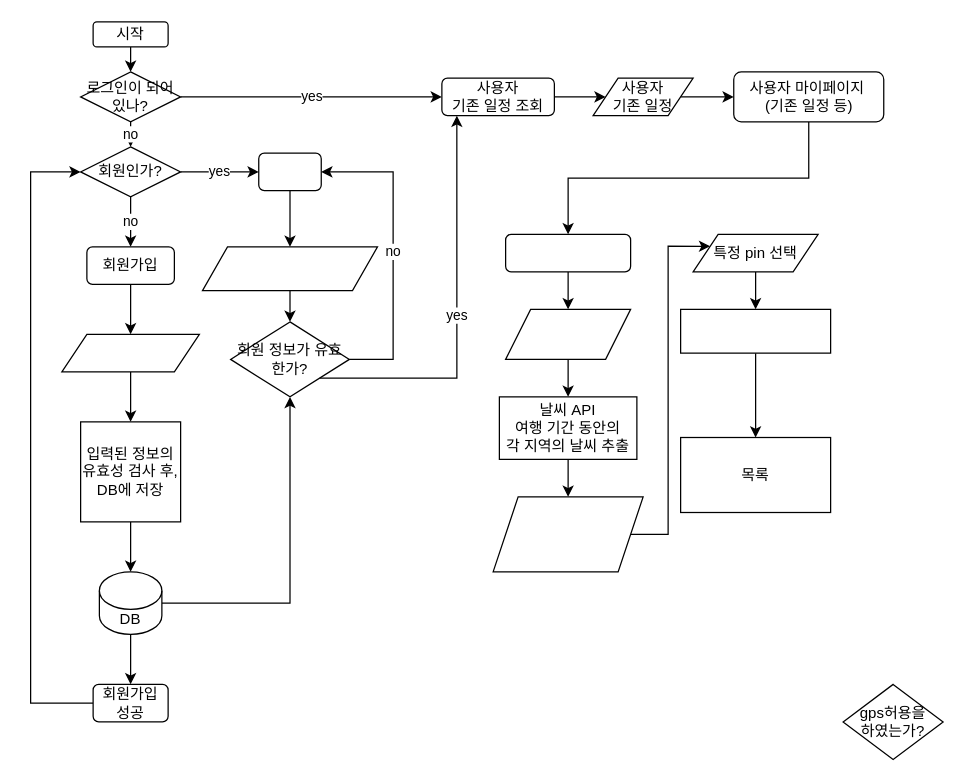
Some shapes in this 965 by 781 pixel diagram are drawn without their labels. Each missing label, with the box of its shape:
AI API 해당 지역 정보 검색: (679, 308, 831, 353)
로그인: (258, 152, 321, 191)
아이디/비밀번호 입력: (201, 246, 378, 291)
여행 기간 설정: (504, 308, 631, 359)
여행 일정 생성: (504, 233, 631, 272)
지도 API 에서 각 지역의 날씨에 따라 다른 색상의 pin 생성: (492, 496, 643, 572)
회원 정보 입력: (61, 333, 199, 372)
